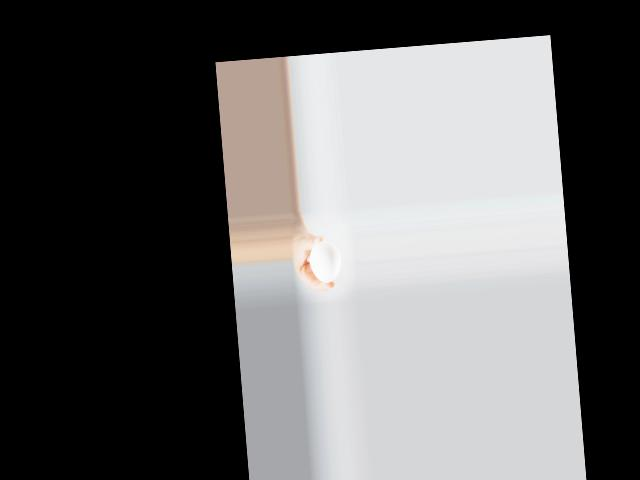egg: (308, 241, 342, 284)
